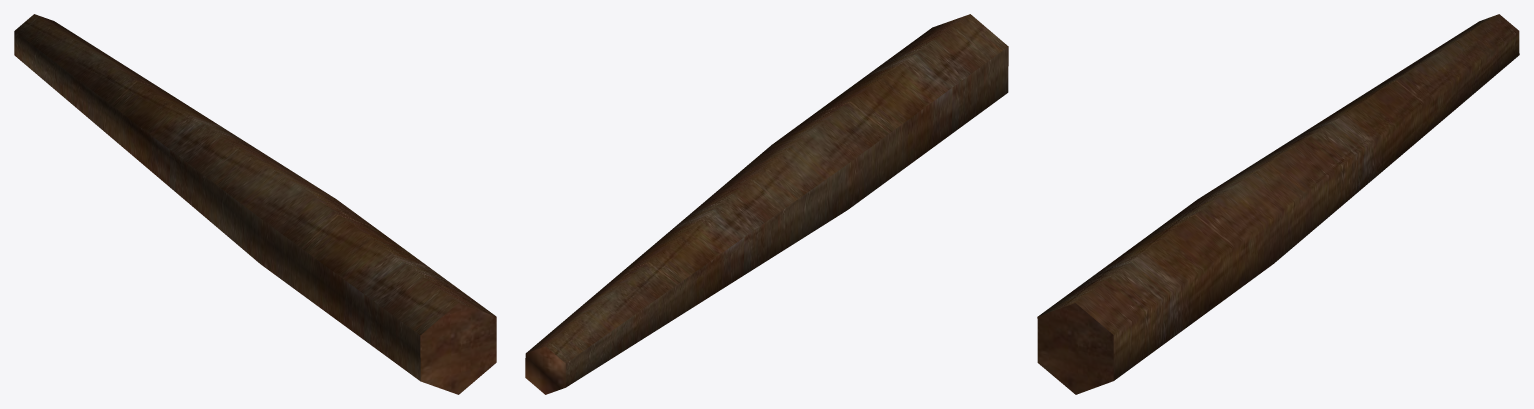
The model's file is furniture_plainchair_shardleg.glb.
The picture shows the model from 3 angles, left to right: view 1: azimuth 30°, elevation 25°; view 2: azimuth 150°, elevation 25°; view 3: azimuth 330°, elevation 25°; orthographic projection.
Bounding box in the file's own units: 1.97 × 2.27 × 18.92.
Materials: 1 (1 with a texture image).
